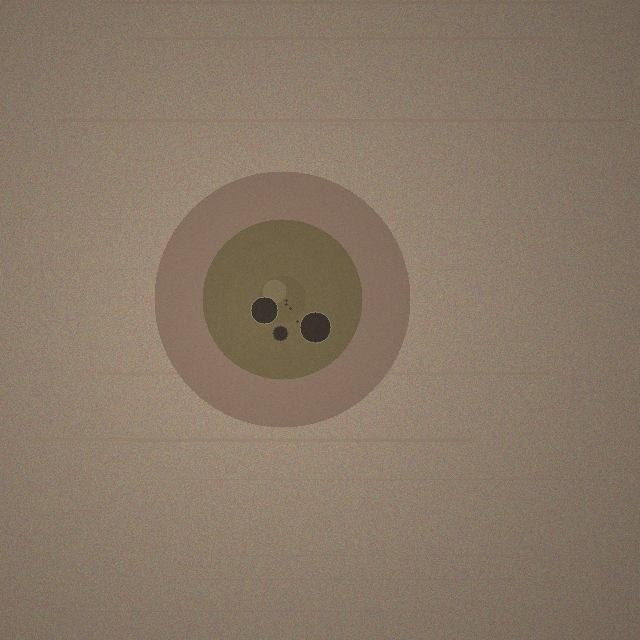shrinkage: (154, 171, 410, 427)
